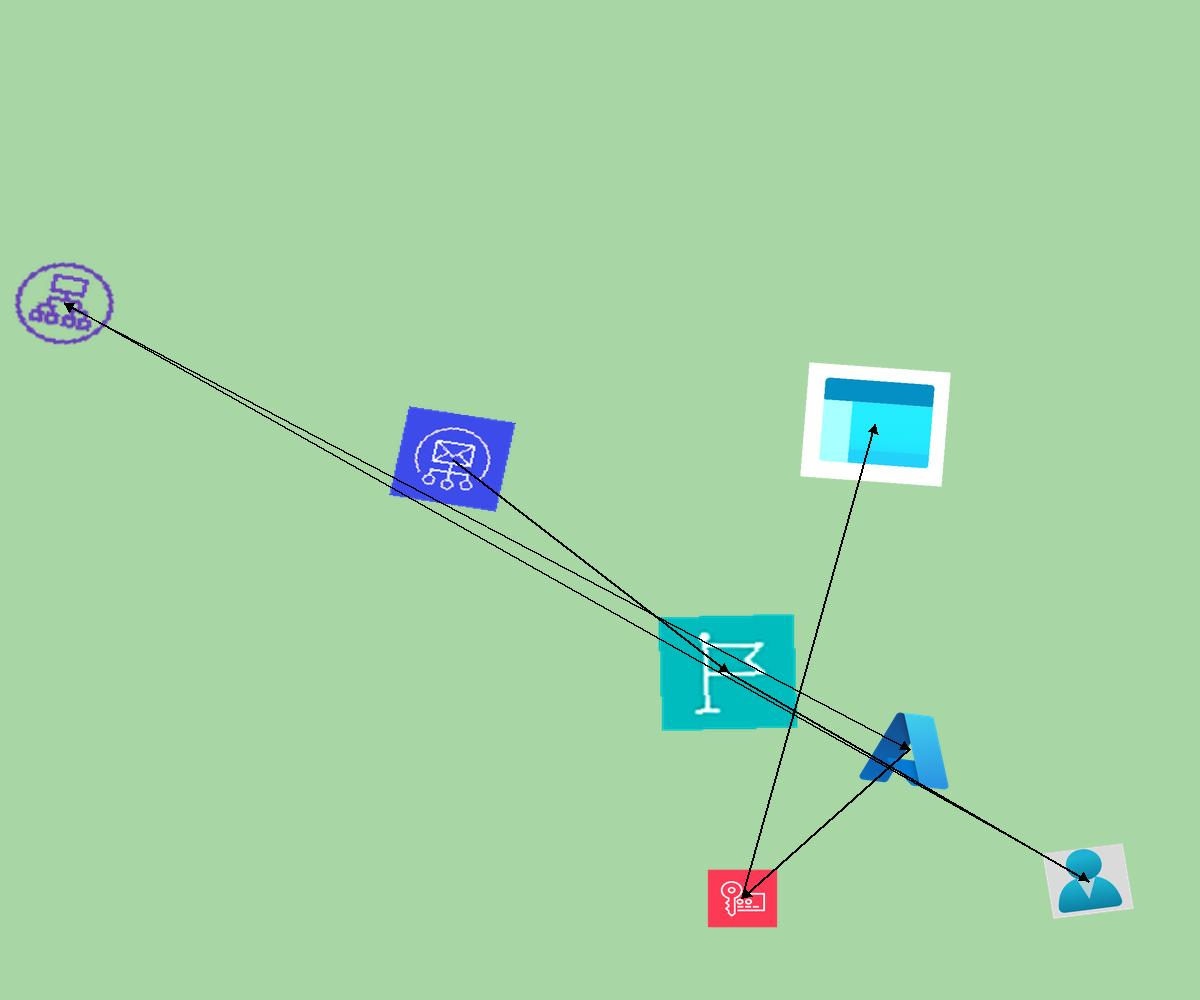AWS-Key-Management-Service: (707, 869, 778, 928)
AWS-Region: (657, 613, 799, 732)
AWS-Res_Elastic-Load-Balancing_Application-Load-Balancer: (0, 250, 129, 357)
AWS-Simple-Email-Service: (389, 406, 516, 512)
Azure_management-portal: (800, 362, 951, 487)
Azure_services: (854, 703, 965, 796)
Azure_users: (1042, 843, 1134, 919)
